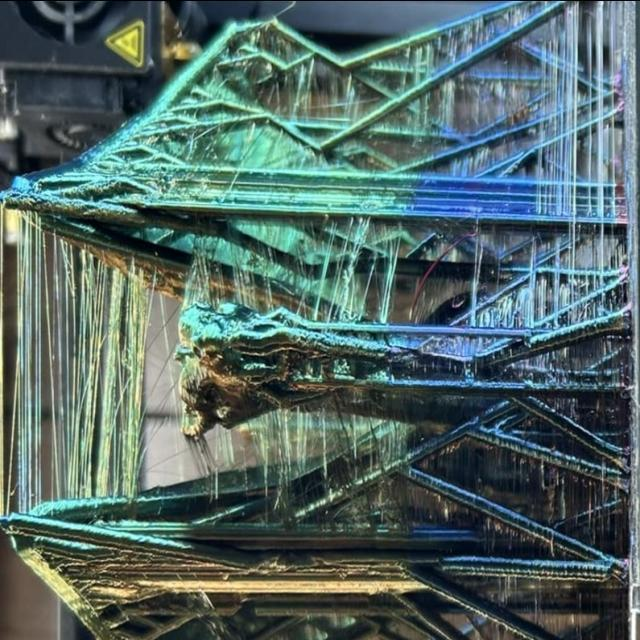stringing: (3, 217, 73, 509), (72, 262, 142, 488), (300, 219, 388, 321), (552, 21, 588, 213), (261, 407, 325, 513)
